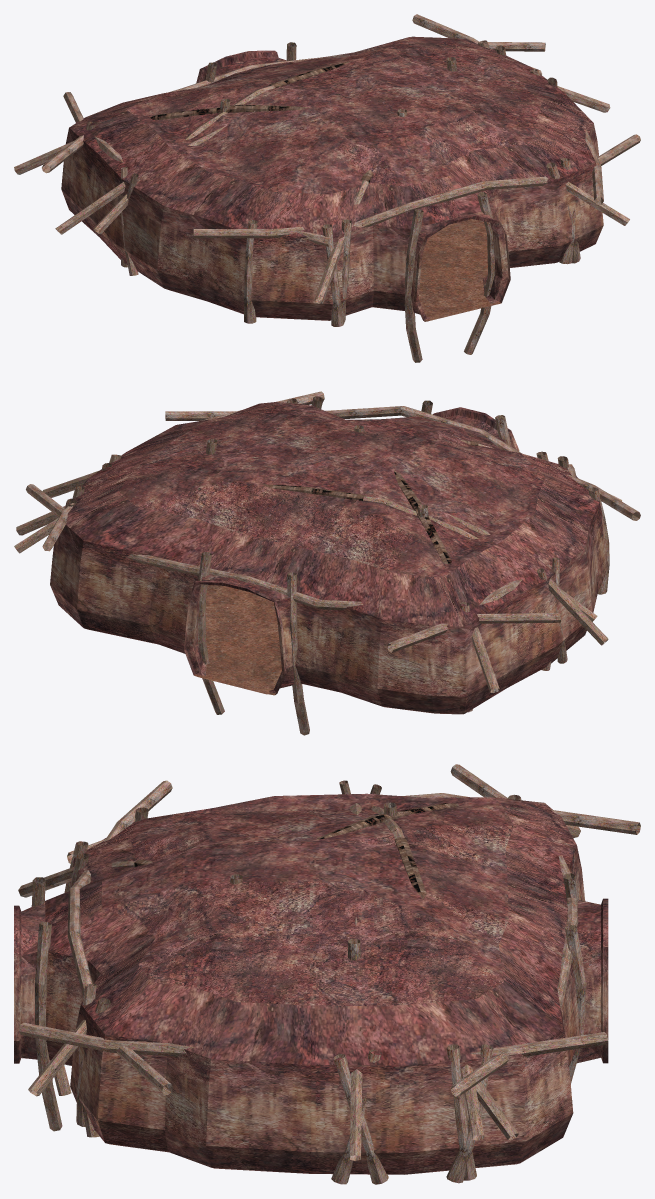
File: thm_dath_night_sister_stronghold_r3_mesh_r3.fbx
3 renders of one model, top to bottom at view 1: azimuth 30°, elevation 25°; view 2: azimuth 150°, elevation 25°; view 3: azimuth 270°, elevation 25°, orthographic. The views are drawn at different scales.
Parts seen in each view (by area): view 1: mesh_node; view 2: mesh_node; view 3: mesh_node.
Boxes of the visible parts, x1,y1,x2,y2 form: mesh_node: (14,14,640,362); mesh_node: (14,391,640,735); mesh_node: (14,764,640,1184).
Bounding box in the file's own units: 25.58 × 8.67 × 19.41.
